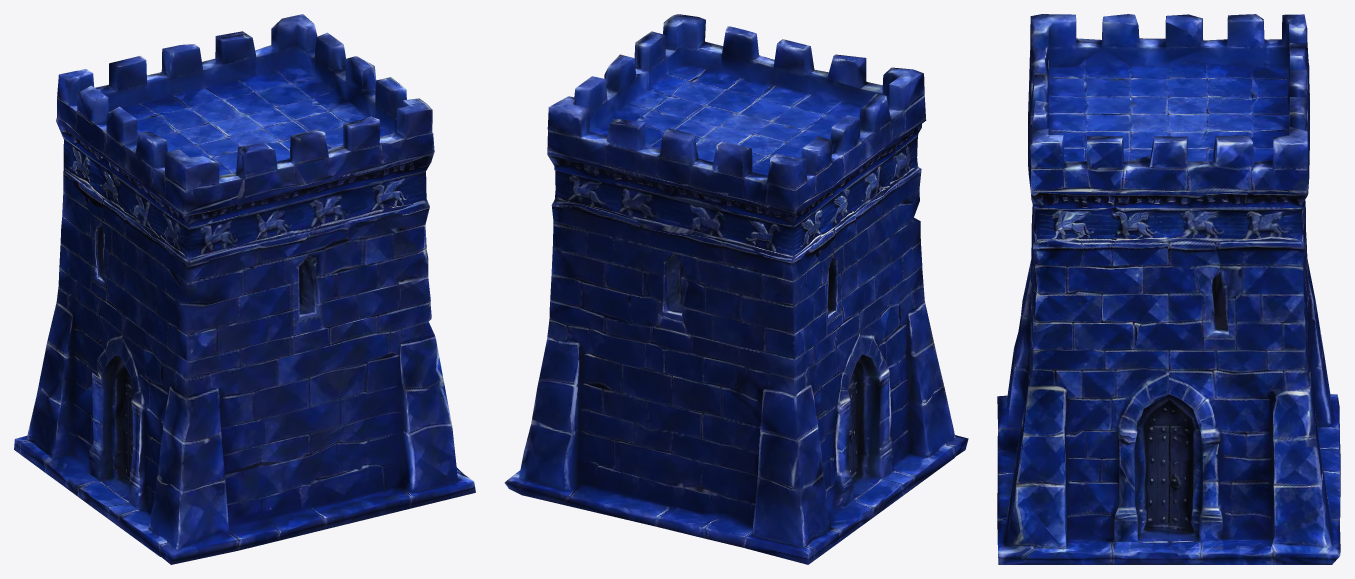
The model's file is castle_tower_short_diamond_blue.glb.
3 renders of one model, left to right at view 1: azimuth 30°, elevation 25°; view 2: azimuth 150°, elevation 25°; view 3: azimuth 270°, elevation 25°, orthographic. The views are drawn at different scales.
Parts seen in each view (by area): view 1: tripo_node_fd8581f2-21c4-4cf1-9438-d35c83d98add; view 2: tripo_node_fd8581f2-21c4-4cf1-9438-d35c83d98add; view 3: tripo_node_fd8581f2-21c4-4cf1-9438-d35c83d98add.
Boxes of the visible parts, <box> form: tripo_node_fd8581f2-21c4-4cf1-9438-d35c83d98add: <box>14,14,475,564</box>; tripo_node_fd8581f2-21c4-4cf1-9438-d35c83d98add: <box>504,14,968,564</box>; tripo_node_fd8581f2-21c4-4cf1-9438-d35c83d98add: <box>997,14,1340,564</box>.
Size of the model in its own units: 0.8187 by 0.9792 by 0.7476.
1 material, 1 textured.
